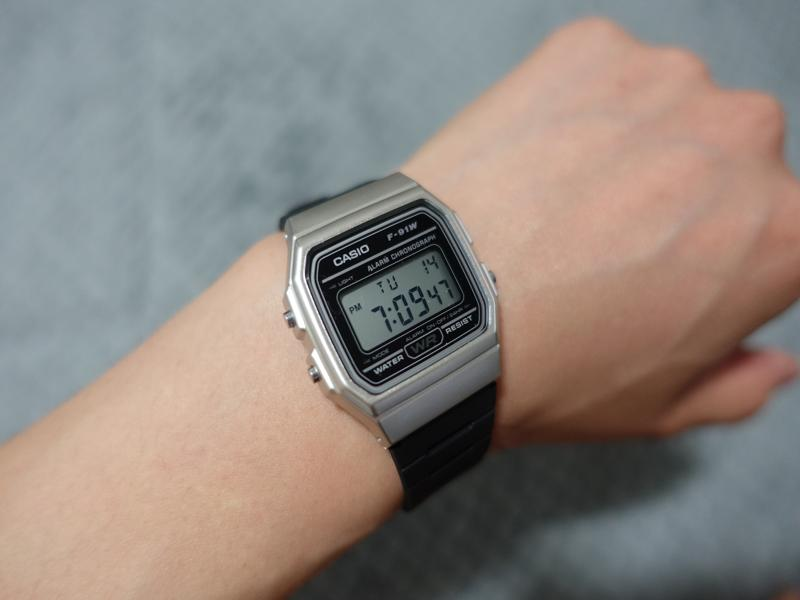watch: (275, 172, 503, 516)
